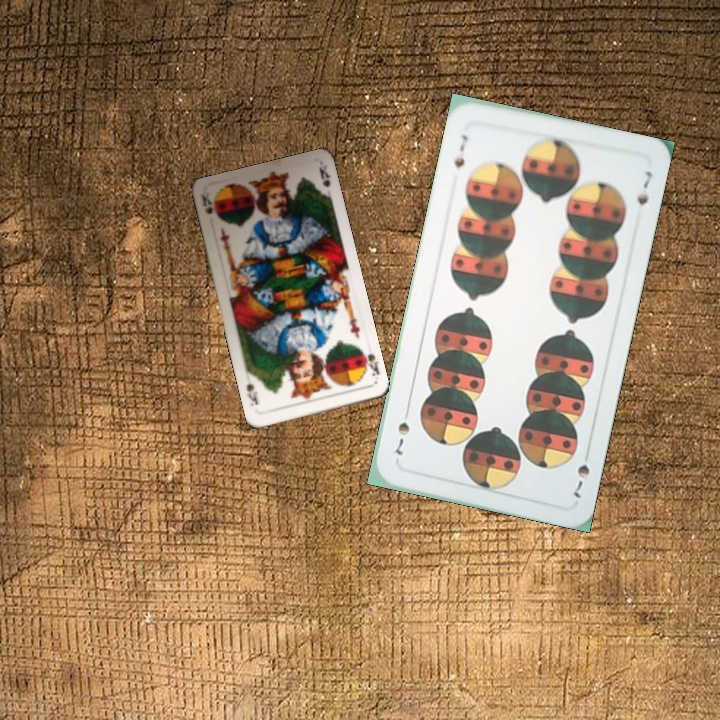S7: (569, 460, 593, 501), (450, 130, 471, 171)
SK: (357, 347, 382, 378), (198, 191, 215, 217)
